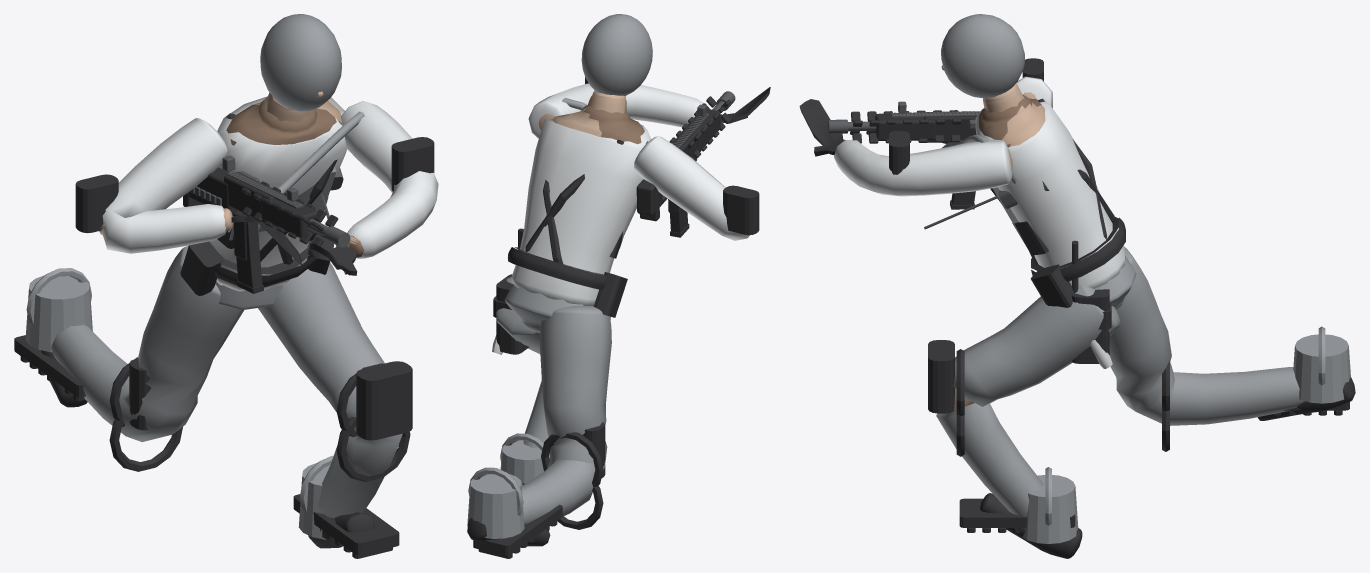
Rendered from arctic-station-fps-kit-defender-light-advancing-25698d15__28516.glb.
3 renders of one model, left to right at view 1: azimuth 30°, elevation 25°; view 2: azimuth 150°, elevation 25°; view 3: azimuth 270°, elevation 25°, orthographic. The views are drawn at different scales.
Visible parts, largest first — view 1: defender-light-advancing; view 2: defender-light-advancing; view 3: defender-light-advancing.
Boxes of the visible parts, x1,y1,x2,y2 form: defender-light-advancing: [14, 14, 438, 558]; defender-light-advancing: [467, 14, 770, 558]; defender-light-advancing: [799, 14, 1355, 558].
Size of the model in its own units: 0.7795 by 1.46 by 1.44.
